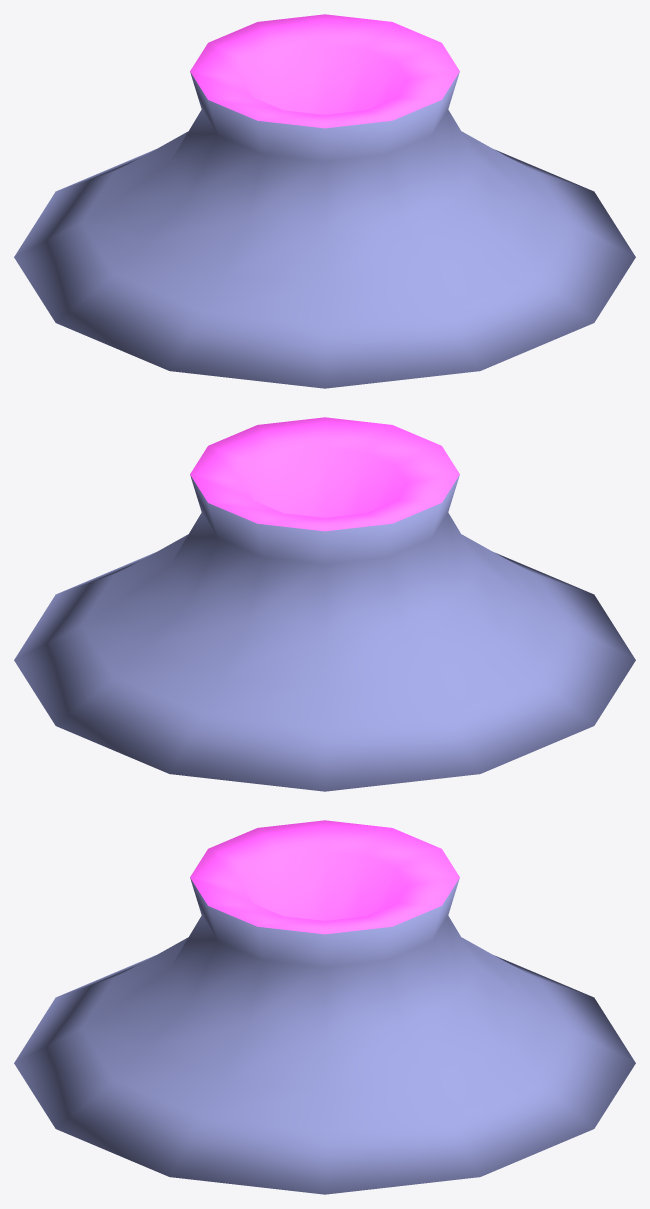
Rendered from debossed_target.gltf.
The picture shows the model from 3 angles, top to bottom: view 1: azimuth 30°, elevation 25°; view 2: azimuth 150°, elevation 25°; view 3: azimuth 270°, elevation 25°; orthographic projection.
Visible parts, largest first — view 1: debossed_target; view 2: debossed_target; view 3: debossed_target.
Part boxes in pixels (x1=…): debossed_target: x1=14, y1=14, x2=635, y2=388; debossed_target: x1=14, y1=417, x2=635, y2=791; debossed_target: x1=14, y1=820, x2=635, y2=1194.
Bounding box in the file's own units: 0.7868 × 0.2777 × 0.7868.
